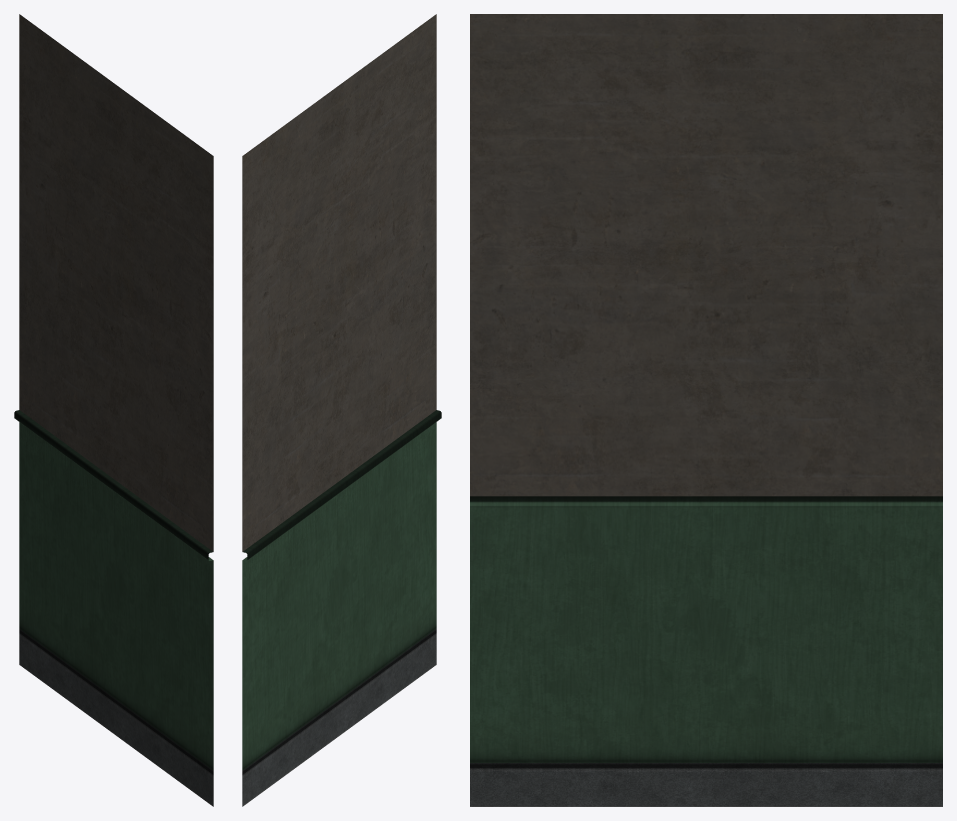
The model's file is Psychiatric_Ward_Infirmary_Wall_2m_Bare.glb.
3 views of the same model, side by side, from view 1: azimuth 30°, elevation 25°; view 2: azimuth 150°, elevation 25°; view 3: azimuth 270°, elevation 25° (orthographic). The views are drawn at different scales.
Parts seen in each view (by area): view 1: Psychiatric_Ward_Infirmary_Wall_2m_Bare; view 2: Psychiatric_Ward_Infirmary_Wall_2m_Bare; view 3: Psychiatric_Ward_Infirmary_Wall_2m_Bare.
Boxes of the visible parts, x1,y1,x2,y2 form: Psychiatric_Ward_Infirmary_Wall_2m_Bare: (14,14,213,806); Psychiatric_Ward_Infirmary_Wall_2m_Bare: (242,14,441,806); Psychiatric_Ward_Infirmary_Wall_2m_Bare: (470,14,942,806).
Size of the model in its own units: 0.03 by 3.7 by 2.
2 materials, 2 textured.
